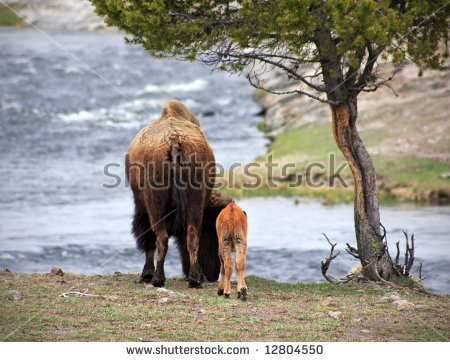yak: (124, 100, 209, 291), (211, 192, 256, 301)
